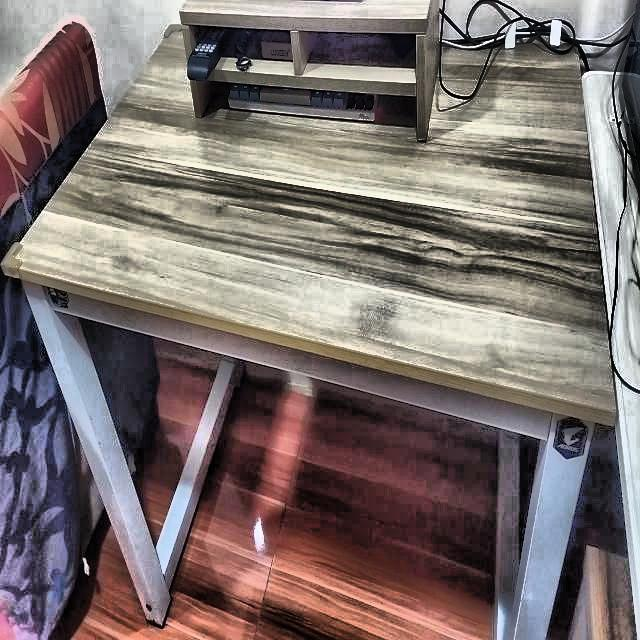mesa: (2, 10, 614, 640)
